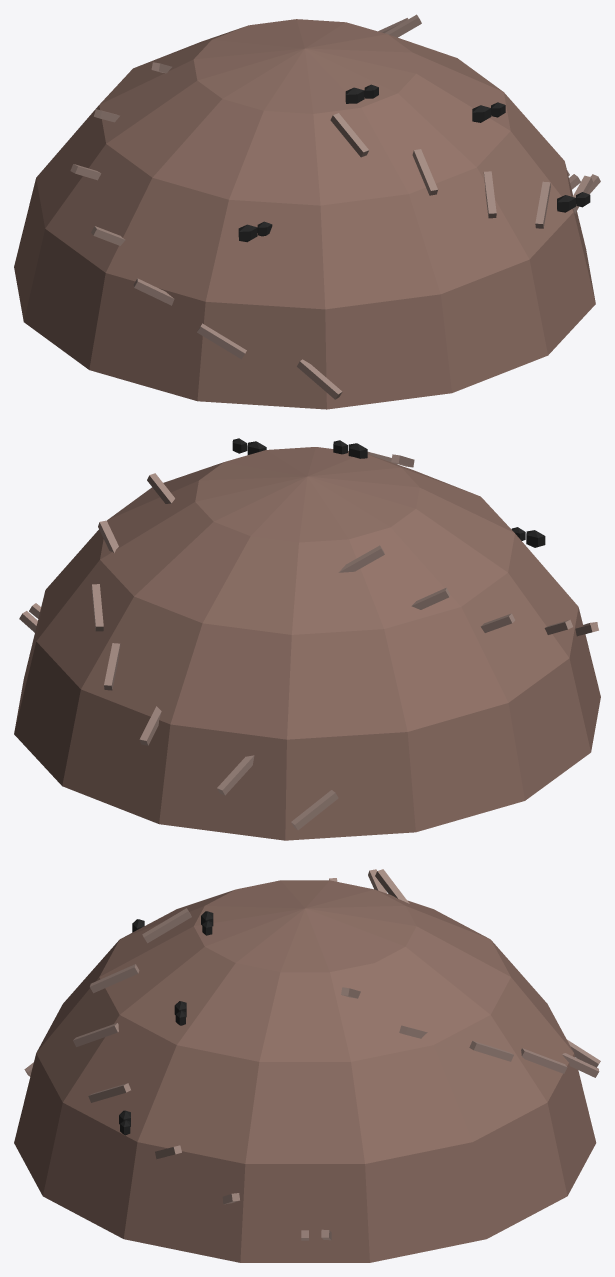
The model's file is myrstack.glb.
3 views of the same model, one above another, from view 1: azimuth 30°, elevation 25°; view 2: azimuth 150°, elevation 25°; view 3: azimuth 270°, elevation 25° (orthographic).
Parts seen in each view (by area): view 1: myrstack; view 2: myrstack; view 3: myrstack.
Boxes of the visible parts, bbox=[...] form: myrstack: bbox=[14, 14, 600, 409]; myrstack: bbox=[14, 438, 600, 840]; myrstack: bbox=[14, 869, 600, 1262].
Bounding box in the file's own units: 0.9232 × 0.4 × 0.9072.
